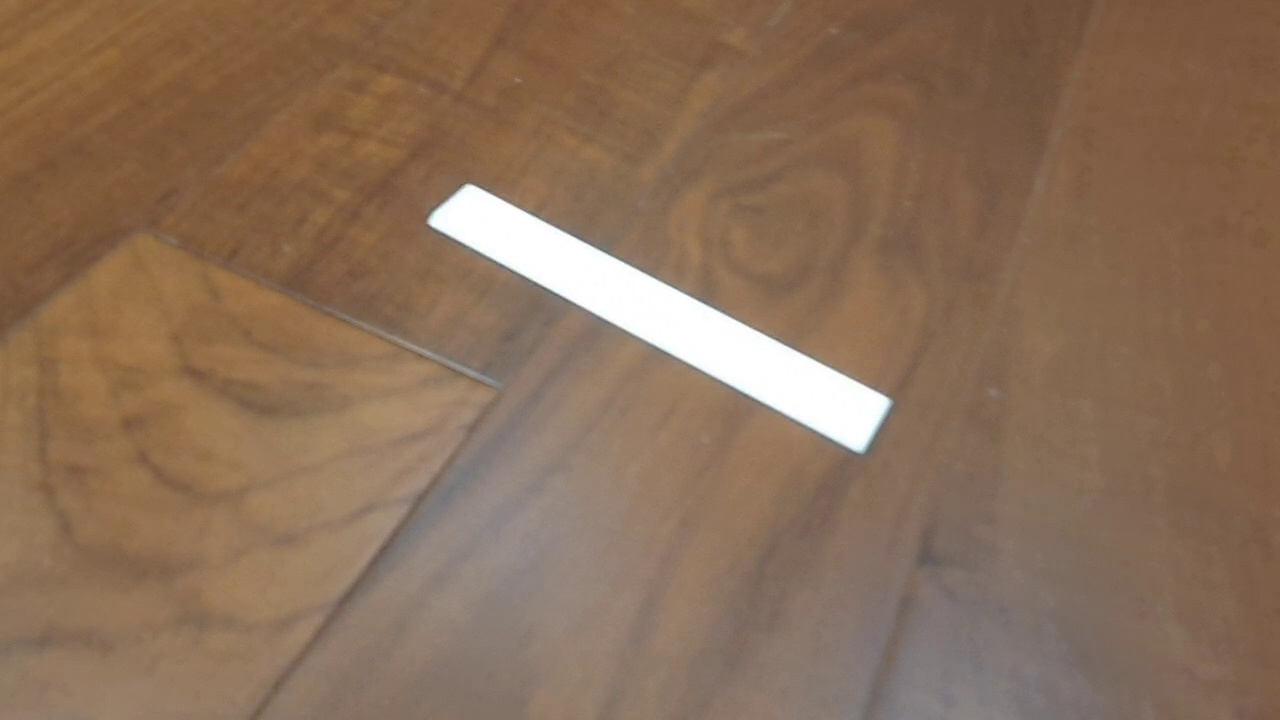ruler: (424, 182, 895, 457)
